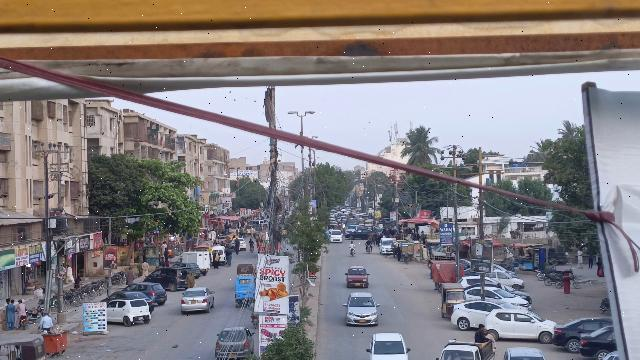Bike: (16, 314, 30, 330)
Car: (483, 304, 557, 344), (551, 311, 613, 354), (449, 297, 509, 330), (213, 327, 256, 360), (341, 291, 380, 327), (363, 332, 412, 360), (105, 299, 153, 326), (143, 266, 190, 292), (101, 291, 156, 312), (179, 286, 218, 314), (126, 281, 168, 305), (343, 264, 371, 289), (504, 343, 545, 360)
Person: (38, 310, 54, 331), (6, 299, 16, 328), (16, 298, 28, 315), (185, 270, 195, 287)
Rickshaw: (437, 281, 467, 322), (231, 275, 255, 309)
Suzuki: (436, 321, 496, 360)
Truck: (176, 250, 212, 275)
